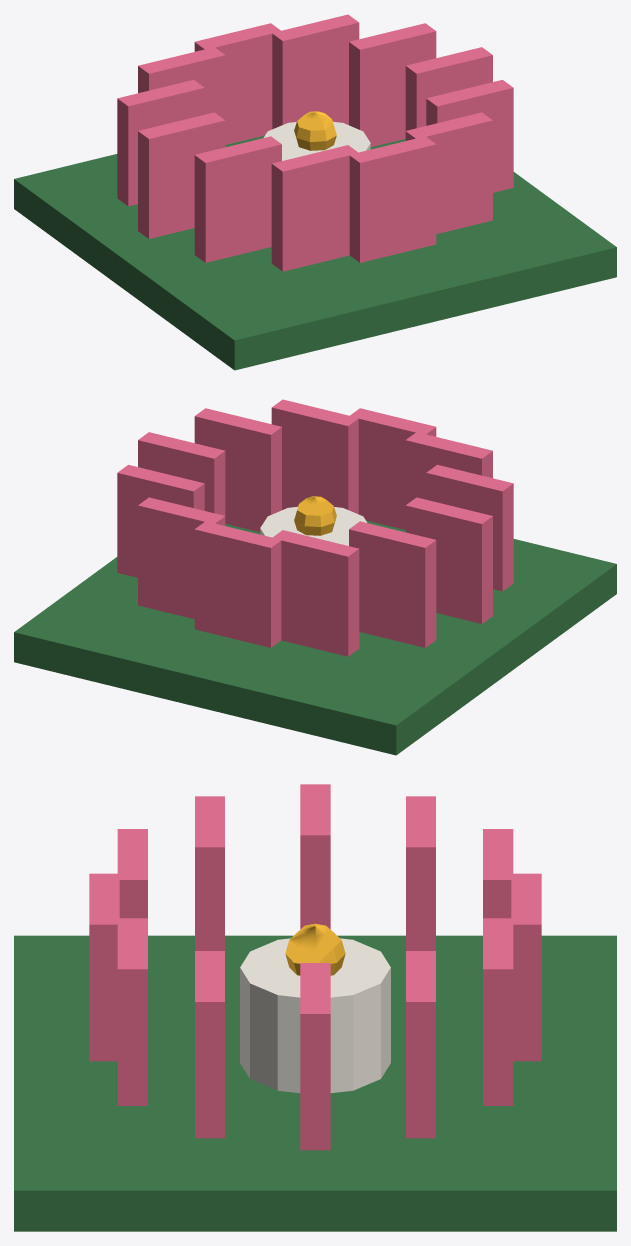
File: den_hoa_dang.obj
3 views of the same model, one above another, from view 1: azimuth 30°, elevation 25°; view 2: azimuth 150°, elevation 25°; view 3: azimuth 270°, elevation 25° (orthographic). The views are drawn at different scales.
Bounding box in the file's own units: 0.2 × 0.075 × 0.2.
